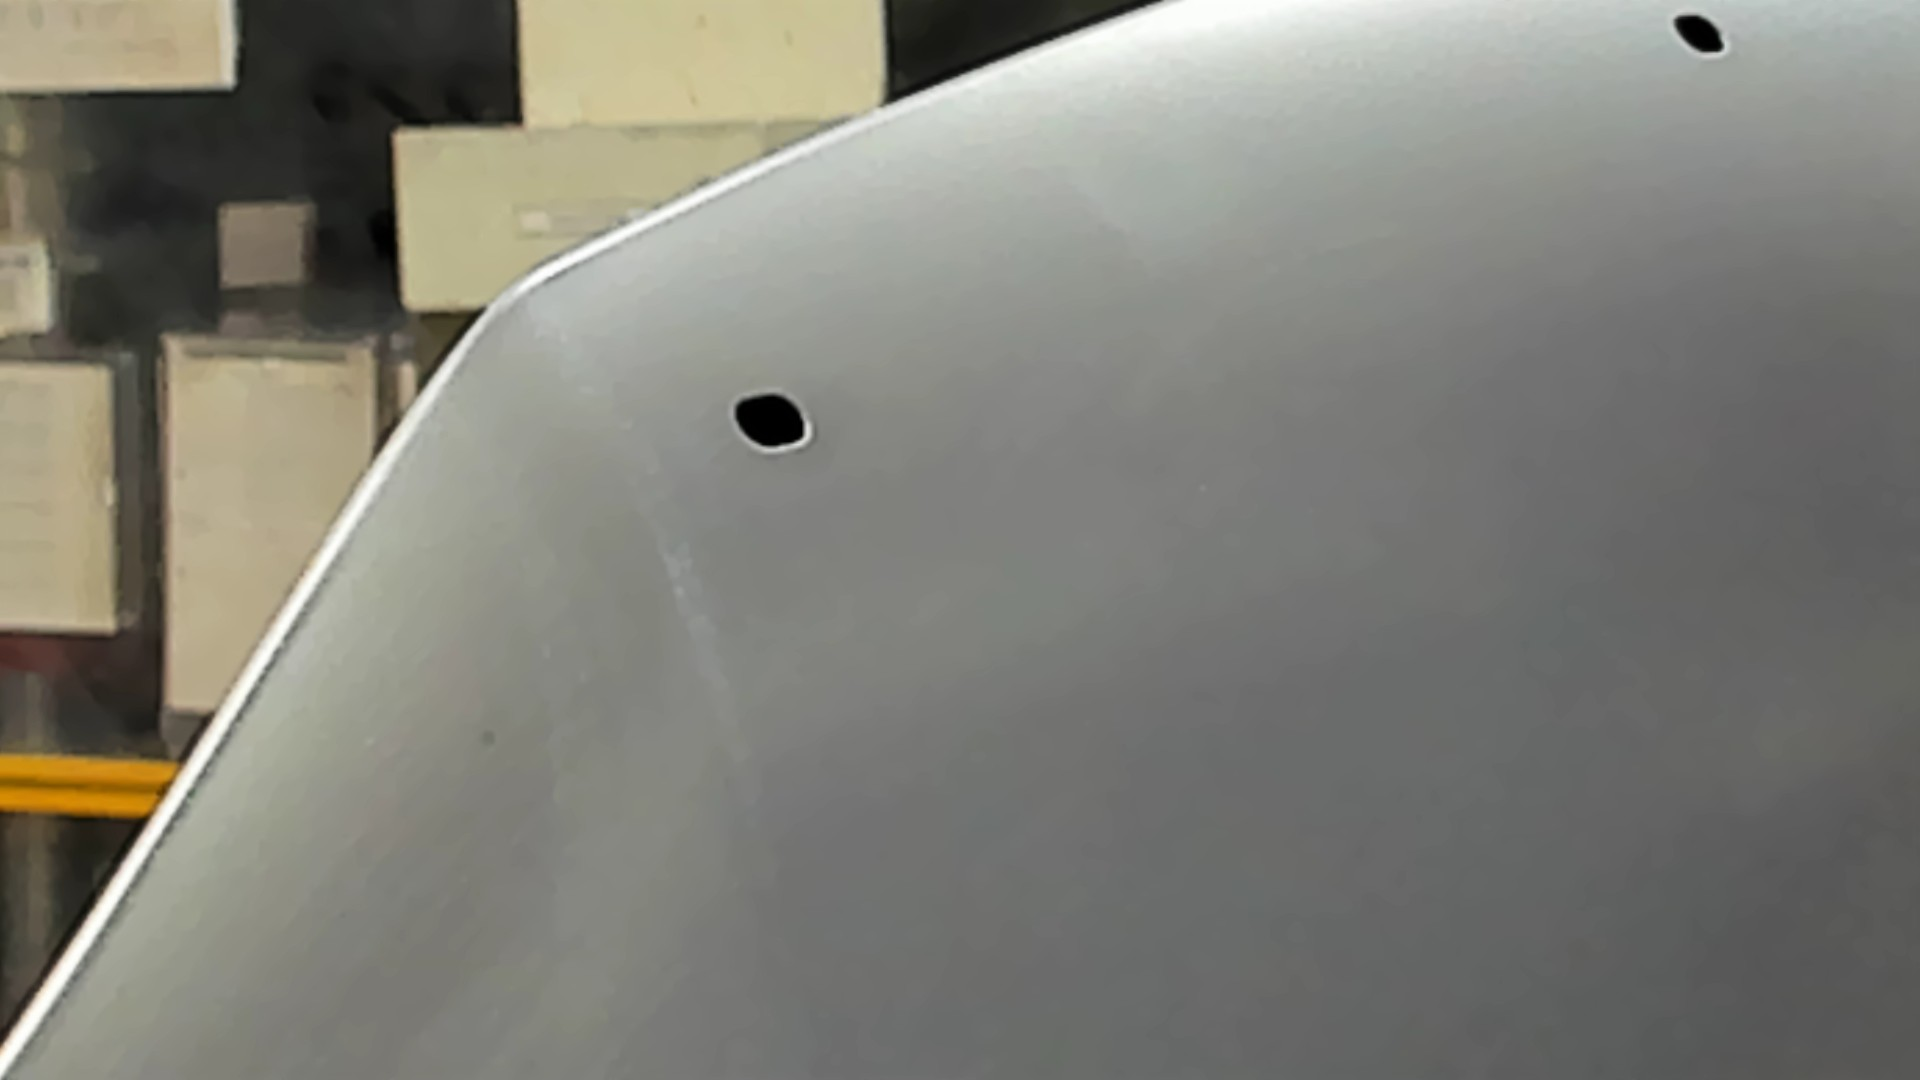amorfo: (725, 385, 819, 463), (1669, 5, 1742, 61)
